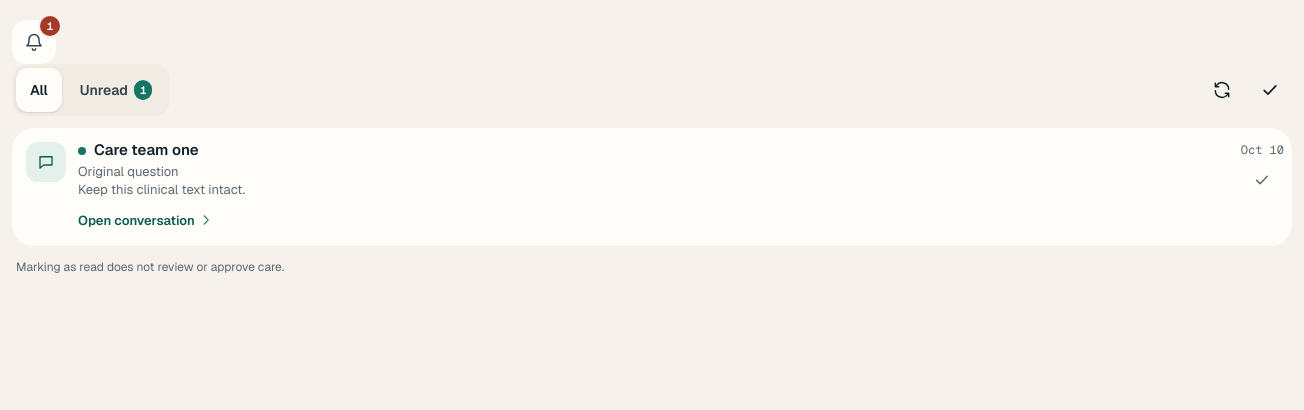
Test case: patient notification centre › does not mark a concurrently arriving notification from an older displayed snapshot
expect the heading "Care team one" is shown: met, box left=94, top=140, right=199, bottom=159
Step 1. Click the button named "Mark displayed as read" → {"x": 1270, "y": 90}, box left=1248, top=68, right=1292, bottom=112
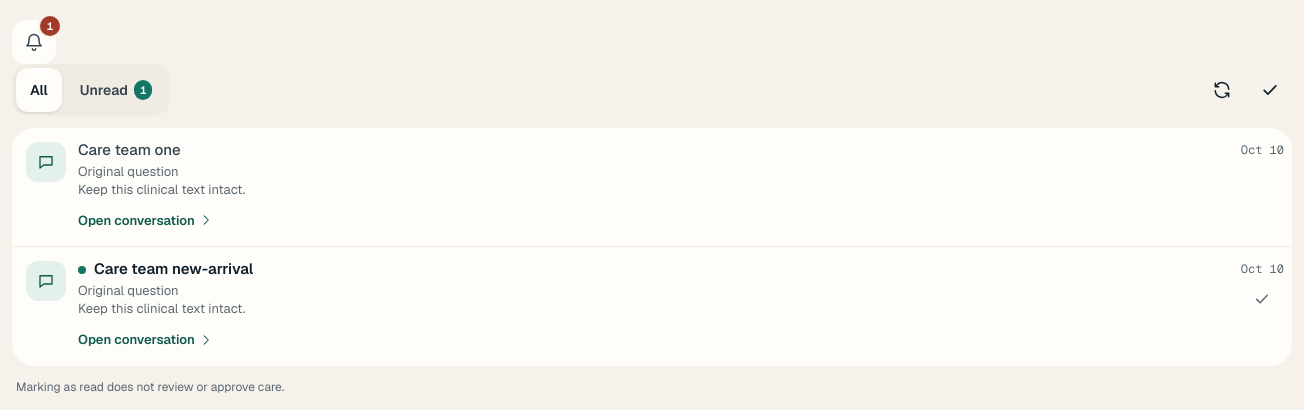
expect the button named "Mark as read: Care team new-arrival" is shown: met, box left=1240, top=277, right=1284, bottom=321
